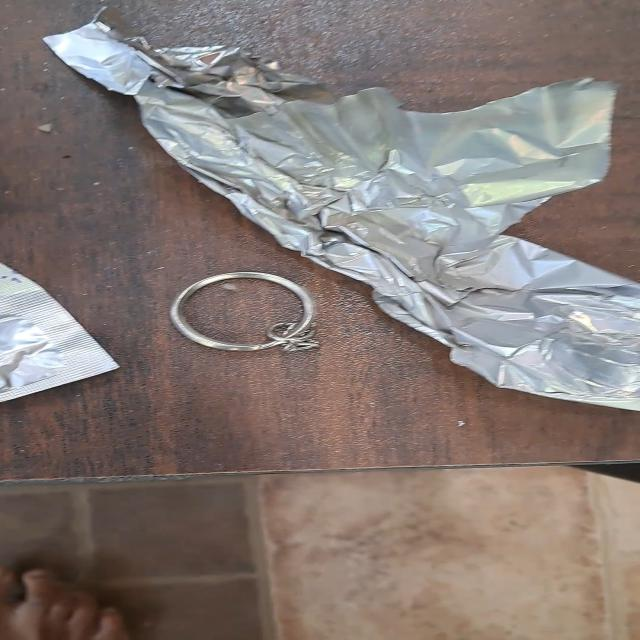Anorganik: (32, 4, 640, 418), (169, 262, 326, 363)
